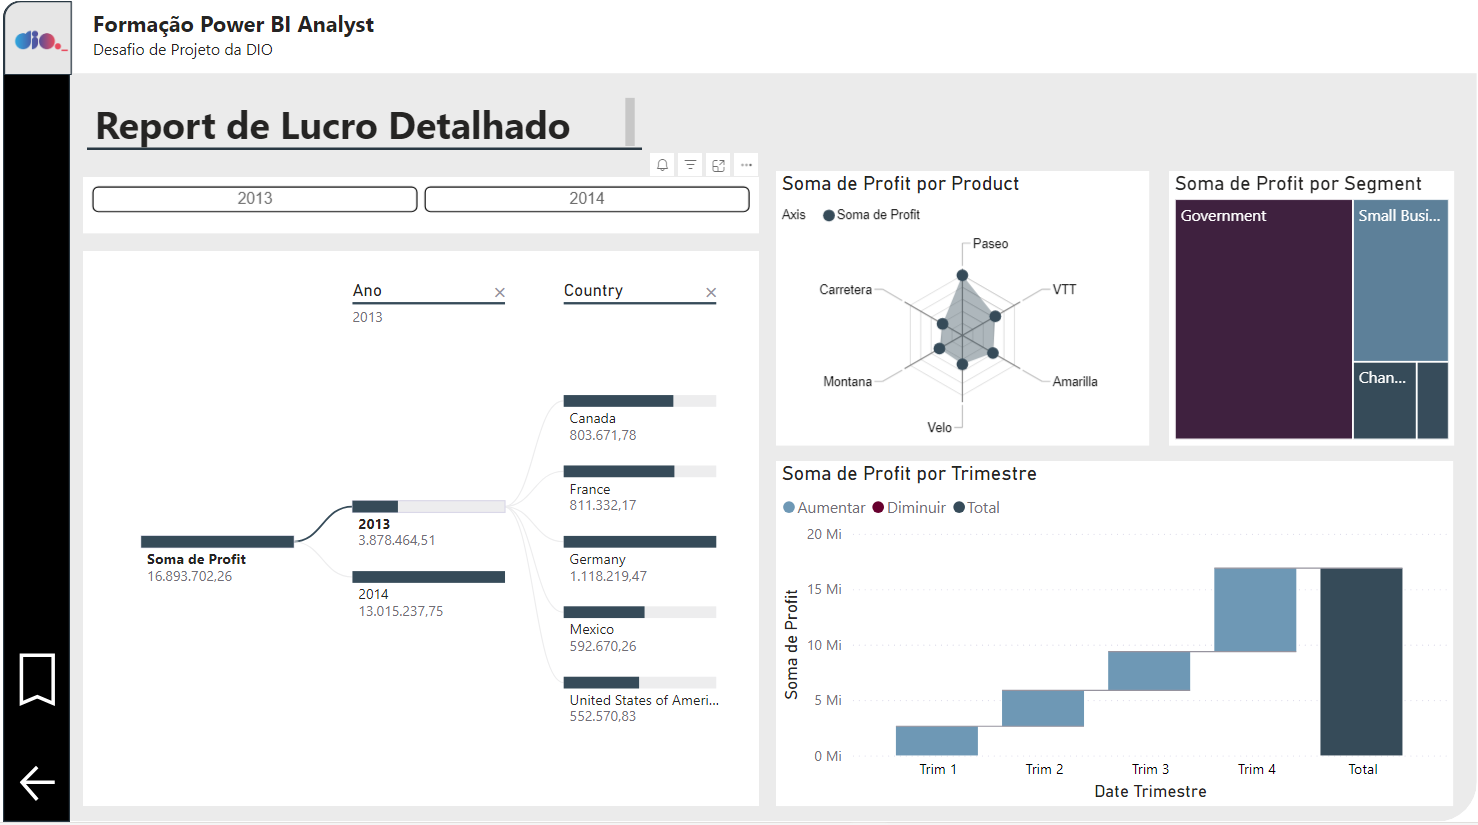

This screenshot's page, from the dashboard's own definition file:
{"tool":"powerbi","page":{"name":"Página 2","canvas":[1280,720],"ordinal":1},"visuals":[{"type":"shape","box":[42.6,20.7,1225.3,699.3],"z":0},{"type":"shape","box":[83.9,127.8,473,37.1],"z":0,"group":"g1"},{"type":"textbox","box":[85.3,97.6,470.2,52.2],"z":1000,"group":"g1"},{"type":"shape","box":[11.7,20.5,57.1,699.5],"z":1000},{"type":"shape","box":[12.4,20.6,57.7,63.2],"z":2000},{"type":"shape","title":"Fundo do Título","box":[71.5,20.6,1198.9,61.9],"z":3000},{"type":"textbox","title":"Título do report","box":[83.9,22,378.1,63.2],"z":4000},{"type":"shape","box":[79.7,233.7,576.1,473],"z":5000},{"type":"decompositionTreeVisual","fields":{"Analyze":["Sum(financials.Profit)"],"ExplainBy":["financials.Date.Variation.Hierarquia de datas.Ano","financials.Country"]},"box":[99.8,242.2,536.3,456.5],"z":6000},{"type":"waterfallChart","fields":{"Category":["financials.Date.Variation.Hierarquia de datas.Trimestre"],"Y":["Sum(financials.Profit)"]},"box":[670.9,412.5,577.4,294.2],"z":7000},{"type":"ChicletSlicer1448559807354","fields":{"Category":["financials.Date.Variation.Hierarquia de datas.Ano"]},"box":[79.7,170.5,576.1,48.1],"z":8000},{"type":"RadarChart1446119667547","fields":{"Category":["financials.Product"],"Y":["Sum(financials.Profit)"]},"box":[670.9,165,317.6,233.7],"z":9000},{"type":"treemap","fields":{"Values":["Sum(financials.Profit)"],"Group":["financials.Segment"]},"box":[1005,165,243.4,233.7],"z":10000},{"type":"actionButton","box":[22,666.8,48.1,39.9],"z":11000},{"type":"group","id":"g1","title":"Sales report","box":[83.9,97.6,473,67.4],"z":12000},{"type":"actionButton","box":[12.8,545.8,57,105.5],"z":13000},{"type":"image","box":[16.1,26.3,57.1,55.6],"z":14000}]}

Visuals, with their boxes on the page's 1280x720 design canvas (x1, y1, x2, y2). These are canvas units, not pixel positions in the 1478x825 screenshot, which may show the page scaled, cropped or inside an application window:
shape: (left=43, top=21, right=1268, bottom=720)
shape: (left=84, top=128, right=557, bottom=165)
textbox: (left=85, top=98, right=556, bottom=150)
shape: (left=12, top=20, right=69, bottom=720)
shape: (left=12, top=21, right=70, bottom=84)
"Fundo do Título" shape: (left=72, top=21, right=1270, bottom=82)
"Título do report" textbox: (left=84, top=22, right=462, bottom=85)
shape: (left=80, top=234, right=656, bottom=707)
decompositionTreeVisual - Sum(financials.Profit) x financials.Date.Variation.Hierarquia de datas.Ano: (left=100, top=242, right=636, bottom=699)
waterfallChart - financials.Date.Variation.Hierarquia de datas.Trimestre x Sum(financials.Profit): (left=671, top=412, right=1248, bottom=707)
ChicletSlicer1448559807354 - financials.Date.Variation.Hierarquia de datas.Ano: (left=80, top=170, right=656, bottom=219)
RadarChart1446119667547 - financials.Product x Sum(financials.Profit): (left=671, top=165, right=988, bottom=399)
treemap - Sum(financials.Profit) x financials.Segment: (left=1005, top=165, right=1248, bottom=399)
actionButton: (left=22, top=667, right=70, bottom=707)
"Sales report" group: (left=84, top=98, right=557, bottom=165)
actionButton: (left=13, top=546, right=70, bottom=651)
image: (left=16, top=26, right=73, bottom=82)
